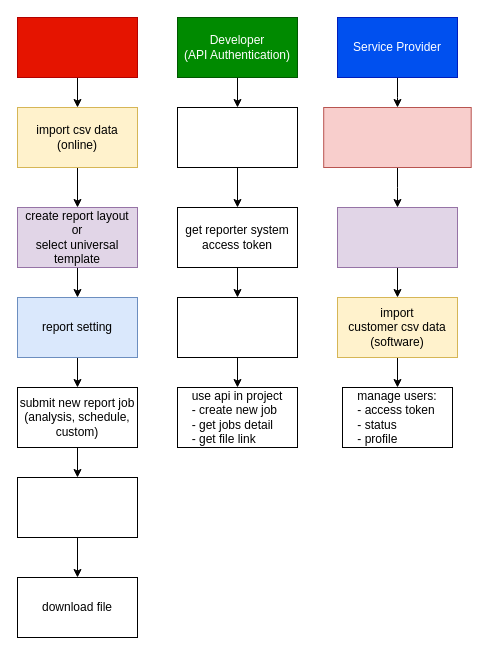
Image size: 489x655. Some labels were removed from this diagram. The shapes that lost their labels are listed below. From the top down, each one's box as (x1, y1, x2, y2) in pixels, then its label:
(16, 16, 138, 78): User (GUI)
(176, 106, 298, 168): sign up reporter system
(323, 106, 471, 168): 1. initial data schema 2. create stored procedure (for data conveter)
(336, 206, 458, 268): create universal template
(176, 296, 298, 358): read api document
(16, 476, 138, 538): check out job details / history
